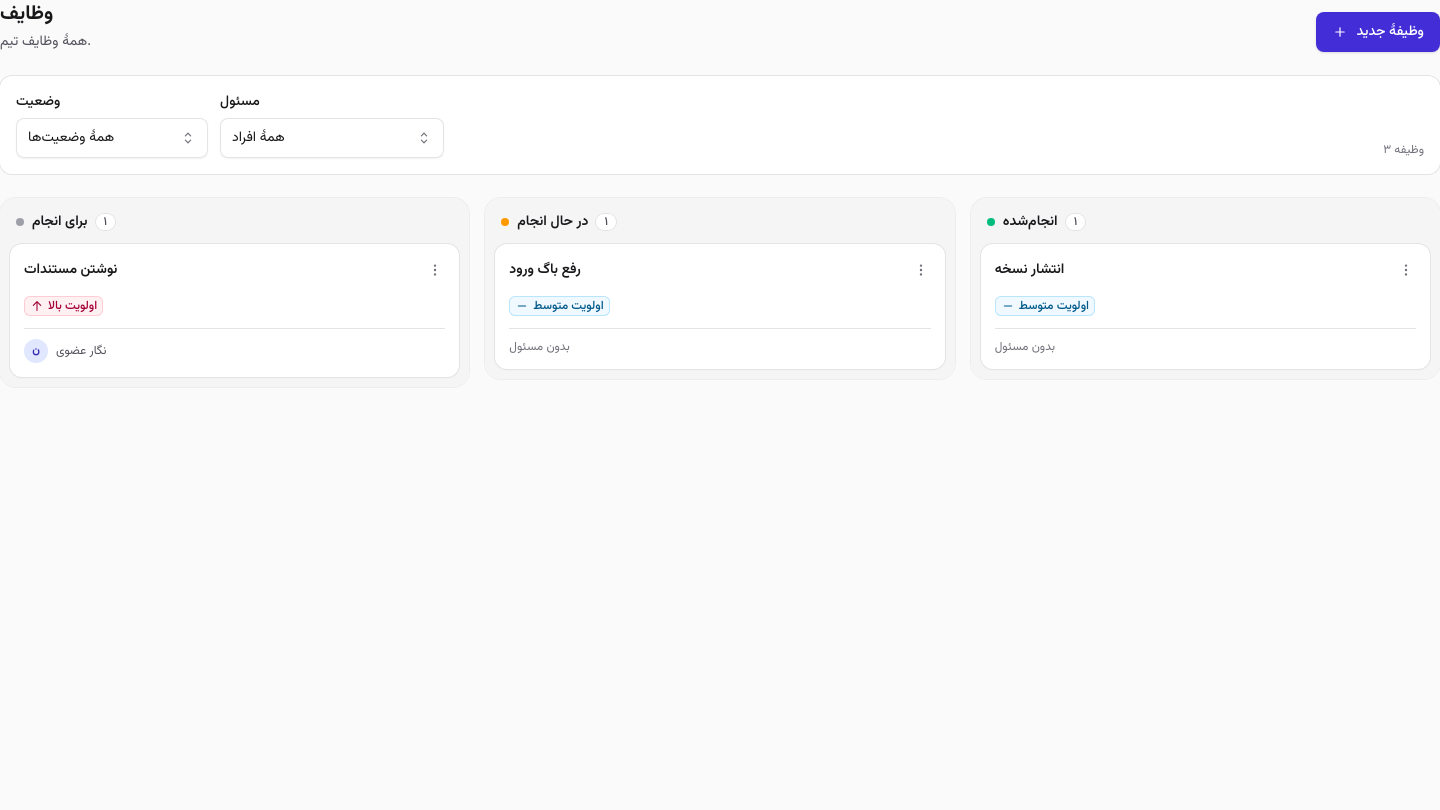
Scenario: TaskBoard › asks for confirmation before deleting and reports failure
This screenshot has width=1440, height=810.
Expected: the button "نوشتن مستندات" is shown, x1=24 y1=258 x2=117 y2=282
Click the button named "گزینه‌های وظیفهٔ «نوشتن مستندات»".
click(435, 270)  # box x1=419 y1=254 x2=451 y2=286
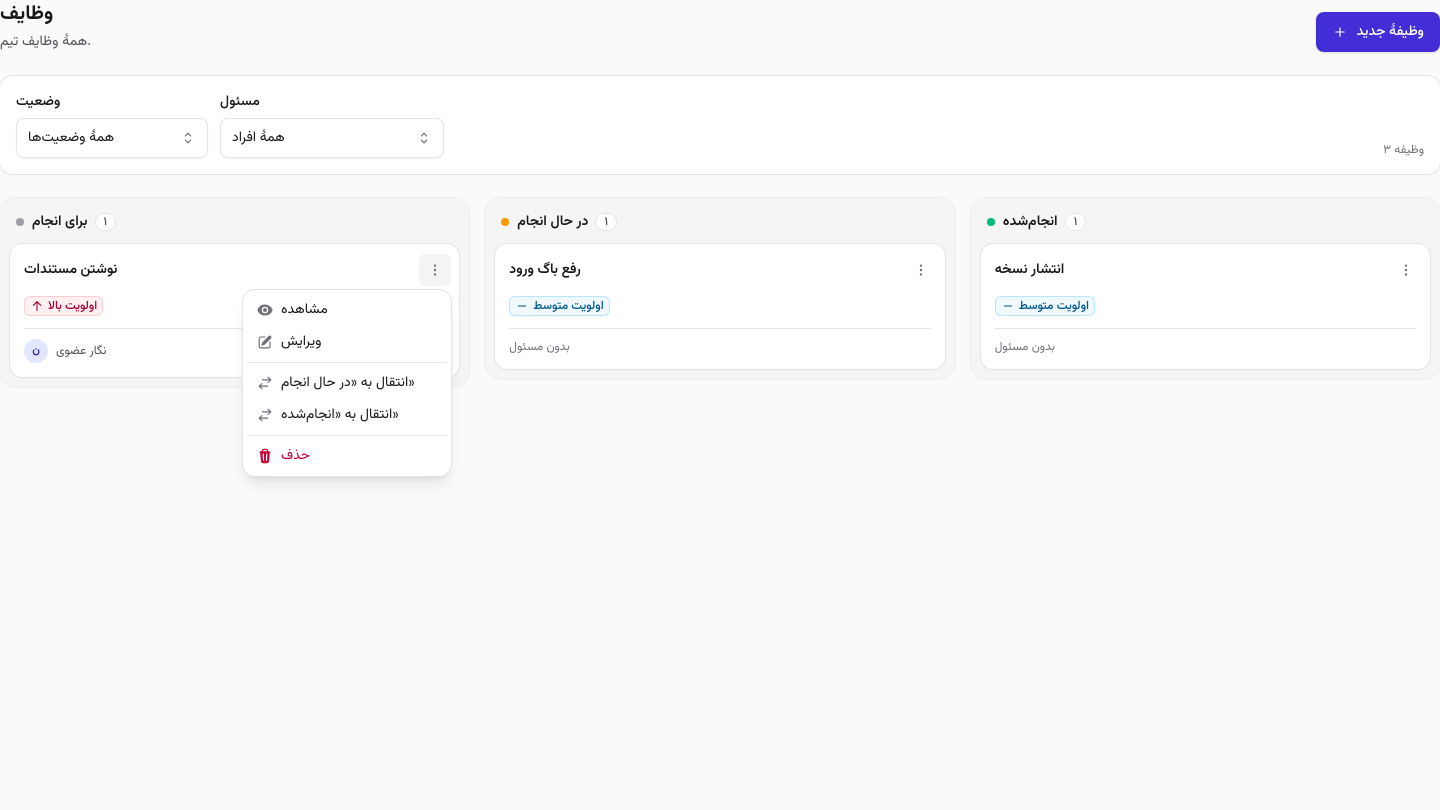
Click the menu item "حذف".
click(347, 456)  # box x1=247 y1=440 x2=447 y2=472
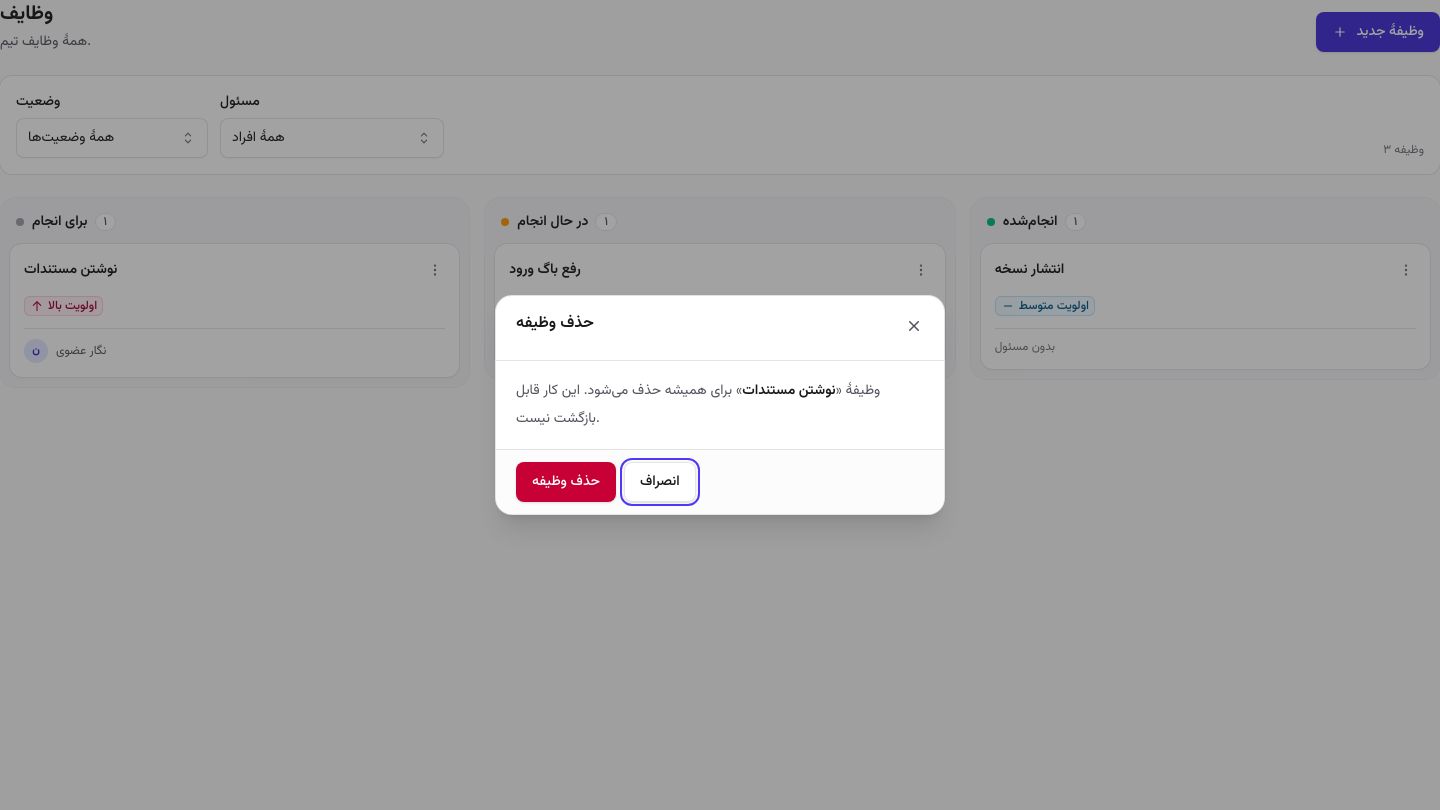
Click the button "حذف وظیفه".
click(566, 482)  # box x1=516 y1=462 x2=616 y2=502
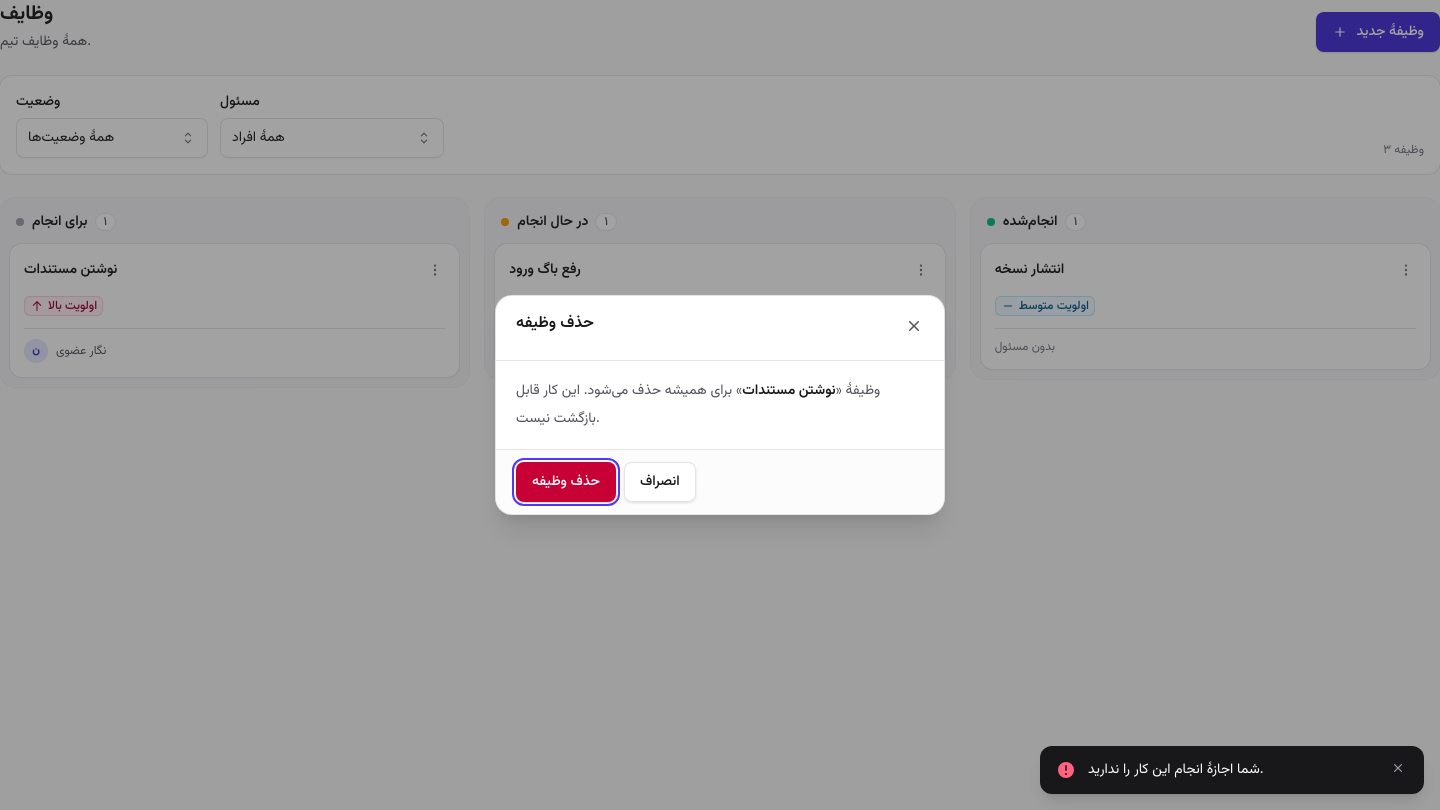
Result: the text "شما اجازهٔ انجام این کار را ندارید." is shown at x1=1088 y1=759 x2=1264 y2=781
Click the button "حذف وظیفه".
click(566, 482)  # box x1=516 y1=462 x2=616 y2=502
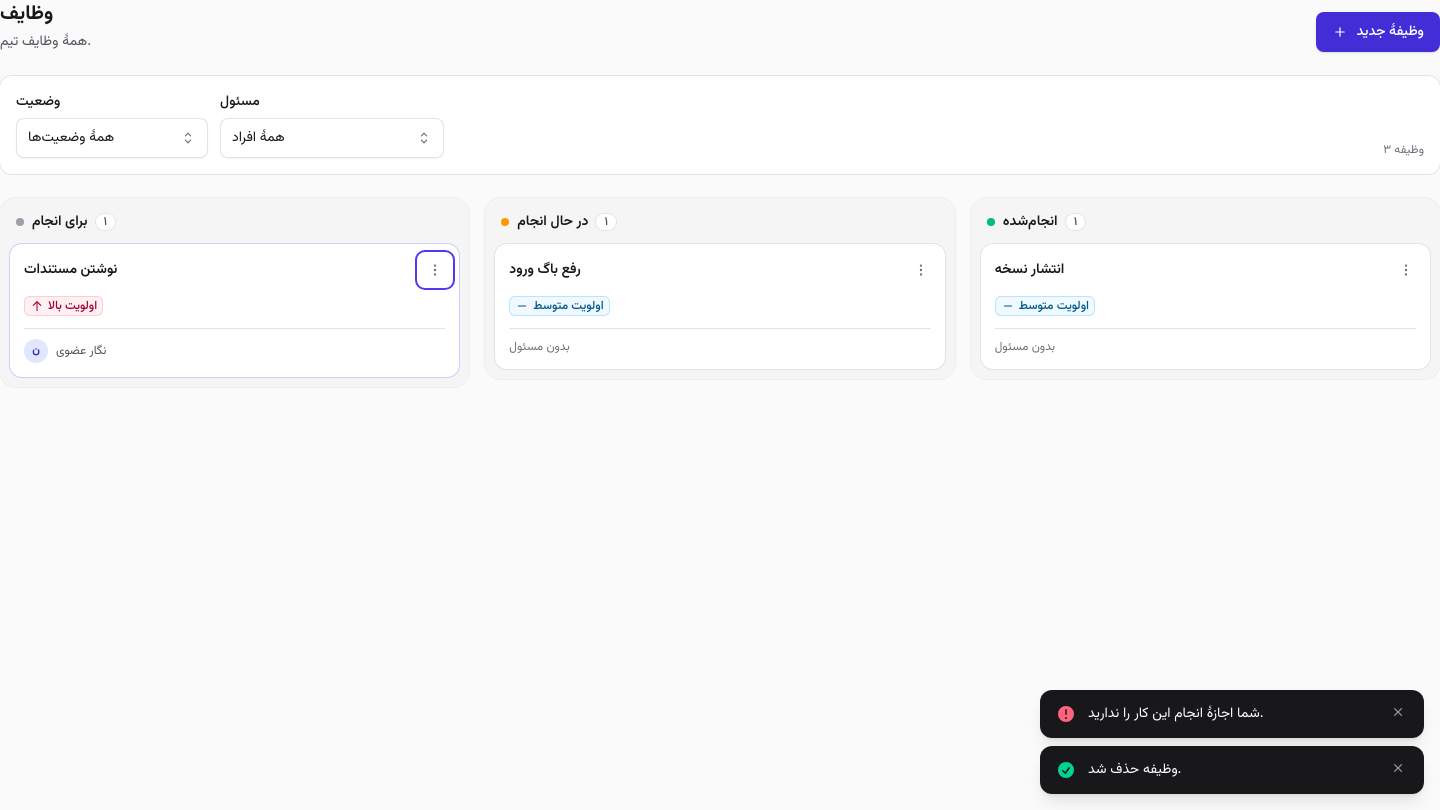
Result: the text "وظیفه حذف شد." is shown at x1=1088 y1=759 x2=1181 y2=781
